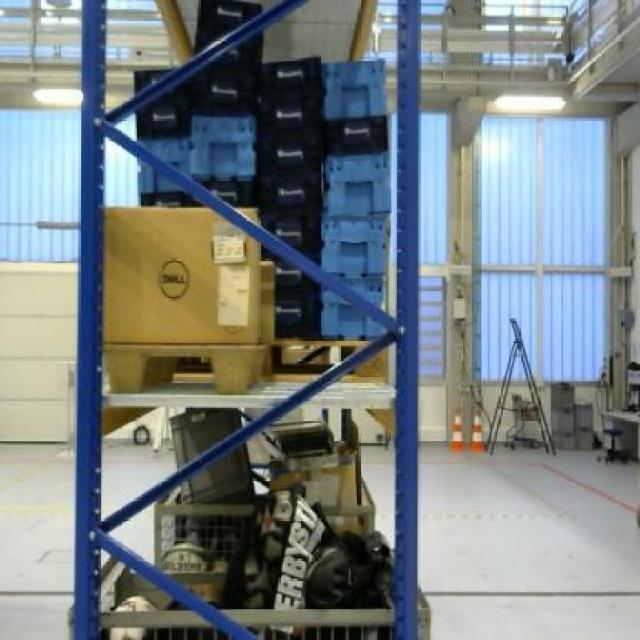box: (103, 206, 260, 342)
